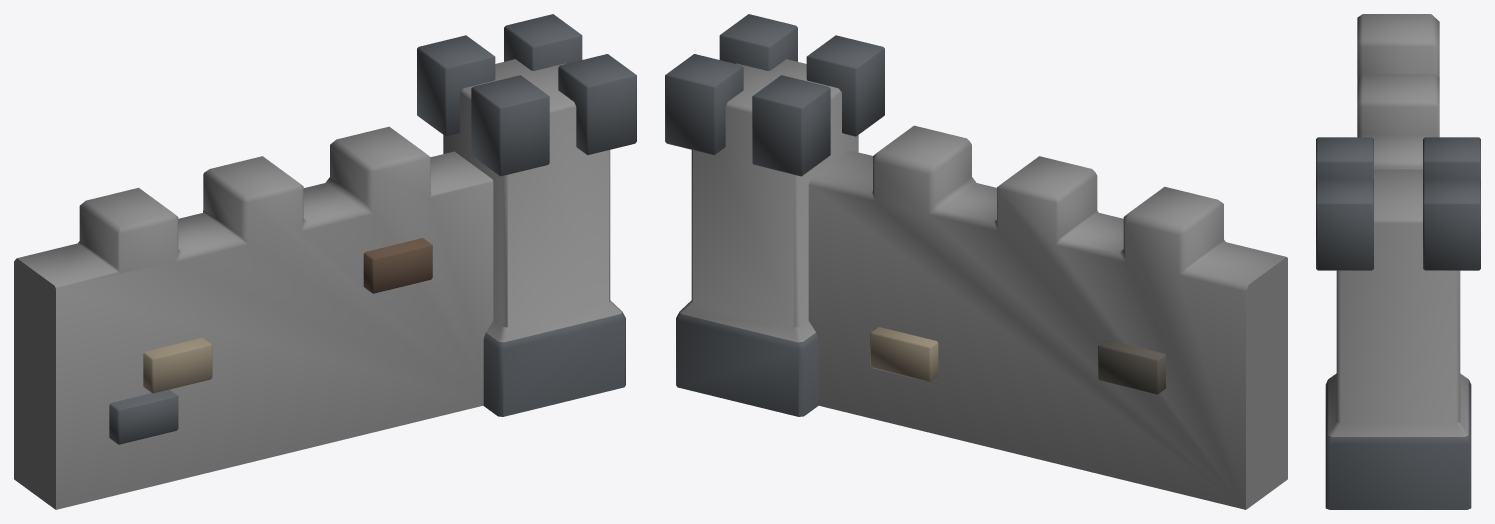
File: Wall.fbx
The picture shows the model from 3 angles, left to right: view 1: azimuth 30°, elevation 25°; view 2: azimuth 150°, elevation 25°; view 3: azimuth 270°, elevation 25°; orthographic projection.
Parts seen in each view (by area): view 1: Cube.1468, Cube.1474, Cube.1475, Cube.1470, Cube.1471, Cube.1469; view 2: Cube.1468, Cube.1474, Cube.1475, Cube.1472, Cube.1473; view 3: Cube.1474, Cube.1475, Cube.1468.
Boxes of the visible parts, bbox=[...] form: Cube.1468: bbox=[14, 126, 493, 509]; Cube.1474: bbox=[443, 59, 625, 416]; Cube.1475: bbox=[417, 14, 636, 176]; Cube.1470: bbox=[143, 338, 212, 393]; Cube.1471: bbox=[363, 238, 432, 293]; Cube.1469: bbox=[109, 389, 178, 444]; Cube.1468: bbox=[808, 125, 1287, 509]; Cube.1474: bbox=[676, 59, 858, 416]; Cube.1475: bbox=[665, 14, 884, 176]; Cube.1472: bbox=[870, 327, 938, 381]; Cube.1473: bbox=[1098, 339, 1165, 394]; Cube.1474: bbox=[1325, 169, 1471, 509]; Cube.1475: bbox=[1316, 137, 1480, 270]; Cube.1468: bbox=[1357, 14, 1439, 169].
Bounding box in the file's own units: 132 × 70.65 × 34.1.
